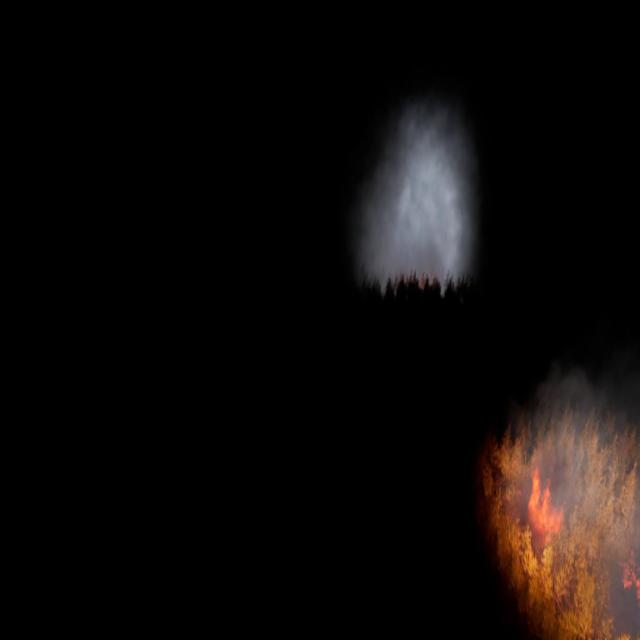fire: (488, 413, 640, 639)
smoke: (518, 358, 640, 622), (353, 89, 482, 290)
